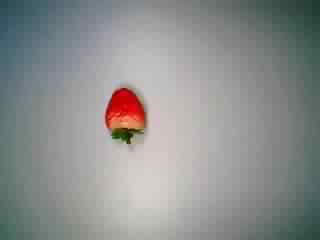strawberry: (94, 84, 159, 151)
